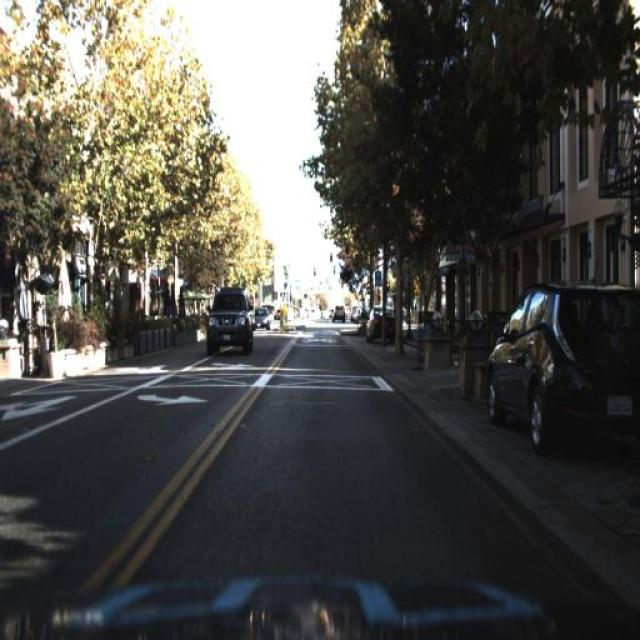car: (481, 275, 638, 456), (203, 285, 252, 364), (202, 282, 252, 358), (366, 305, 396, 345)
